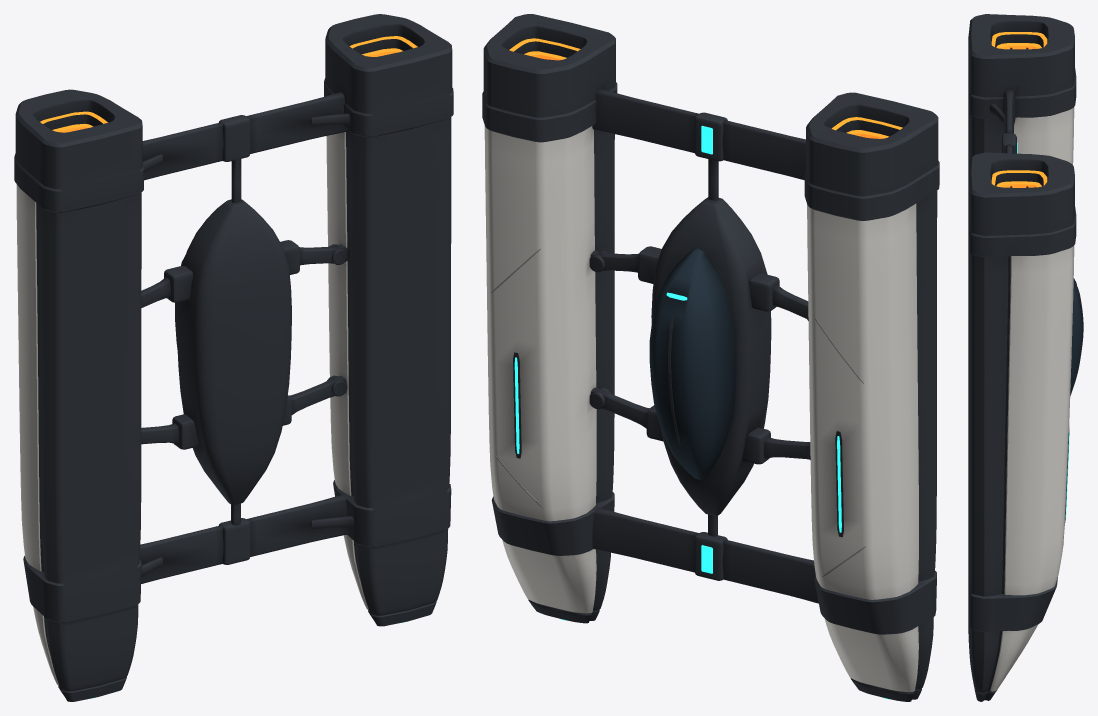
File: twin_rail_vector.glb
3 renders of one model, left to right at view 1: azimuth 30°, elevation 25°; view 2: azimuth 150°, elevation 25°; view 3: azimuth 270°, elevation 25°, orthographic. The views are drawn at different scales.
Parts seen in each view (by area): view 1: left_rail_underbody, right_rail_underbody, central_chassis, left_thruster_shroud, right_thruster_shroud, right_rail_hardware, left_rail_hardware, left_rail_shell, right_rail_shell, central_hardware; view 2: left_rail_shell, right_rail_shell, cockpit_capsule, left_thruster_shroud, central_chassis, right_thruster_shroud, left_rail_underbody, right_rail_underbody, right_rail_hardware, left_rail_hardware, central_hardware, central_energy; view 3: right_rail_shell, right_rail_underbody, right_thruster_shroud, left_thruster_shroud, left_rail_shell, left_rail_underbody, cockpit_capsule, left_rail_hardware, right_thruster_core, left_thruster_core, central_hardware.
Part boxes in pixels (x1,y1,x2,y2): left_rail_underbody: (23,192,141,701); right_rail_underbody: (333,117,451,626); central_chassis: (176,199,291,504); left_thruster_shroud: (14,89,143,212); right_thruster_shroud: (324,14,453,137); right_rail_hardware: (246,92,354,556); left_rail_hardware: (139,122,223,583); left_rail_shell: (16,184,58,684); right_rail_shell: (326,132,368,609); central_hardware: (164,115,299,564); left_rail_shell: (807,203,918,692); right_rail_shell: (484,125,596,613); cockpit_capsule: (649,248,736,479); left_thruster_shroud: (804,92,939,220); central_chassis: (651,197,771,515); right_thruster_shroud: (482,14,617,142); left_rail_underbody: (814,190,937,701); right_rail_underbody: (491,129,614,623); right_rail_hardware: (513,89,699,572); left_rail_hardware: (722,120,843,603); central_hardware: (638,112,779,580); central_energy: (666,125,712,573); right_rail_shell: (990,245,1074,691); right_rail_underbody: (968,239,1057,701); right_thruster_shroud: (968,152,1076,257); left_thruster_shroud: (968,14,1076,119); left_rail_shell: (1014,107,1074,164); left_rail_underbody: (968,101,1004,174); cockpit_capsule: (1070,278,1082,395); left_rail_hardware: (989,47,1028,133); right_thruster_core: (991,170,1047,187); left_thruster_core: (991,32,1047,49); central_hardware: (1001,133,1083,378).
Bounding box in the file's own units: 1.96 × 2.59 × 0.5204.
